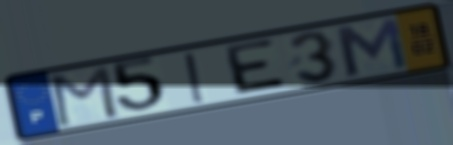3: (286, 29, 342, 87)
5: (107, 54, 169, 116)
E: (224, 36, 291, 97)
I: (181, 50, 210, 106)
M: (330, 15, 412, 79), (48, 63, 122, 130)
